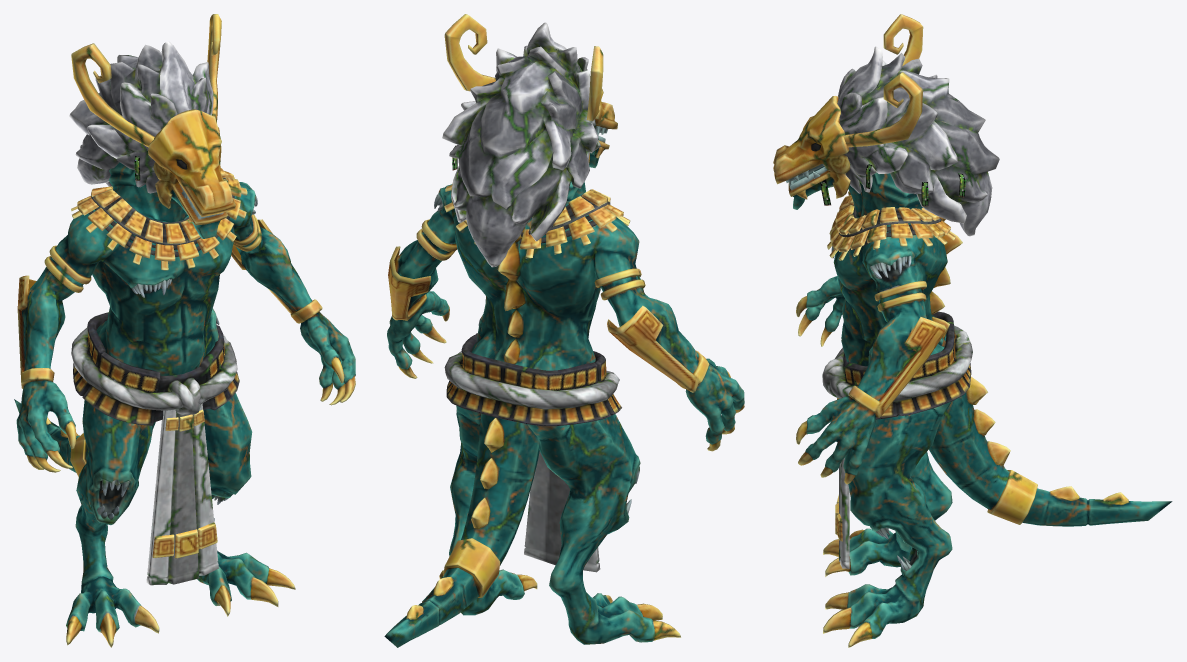
Rendered from 182-titancipactli.glb.
3 views of the same model, side by side, from view 1: azimuth 30°, elevation 25°; view 2: azimuth 150°, elevation 25°; view 3: azimuth 270°, elevation 25° (orthographic). The views are drawn at different scales.
Size of the model in its own units: 7.88 by 13.26 by 8.72.
1 material, 1 textured.
